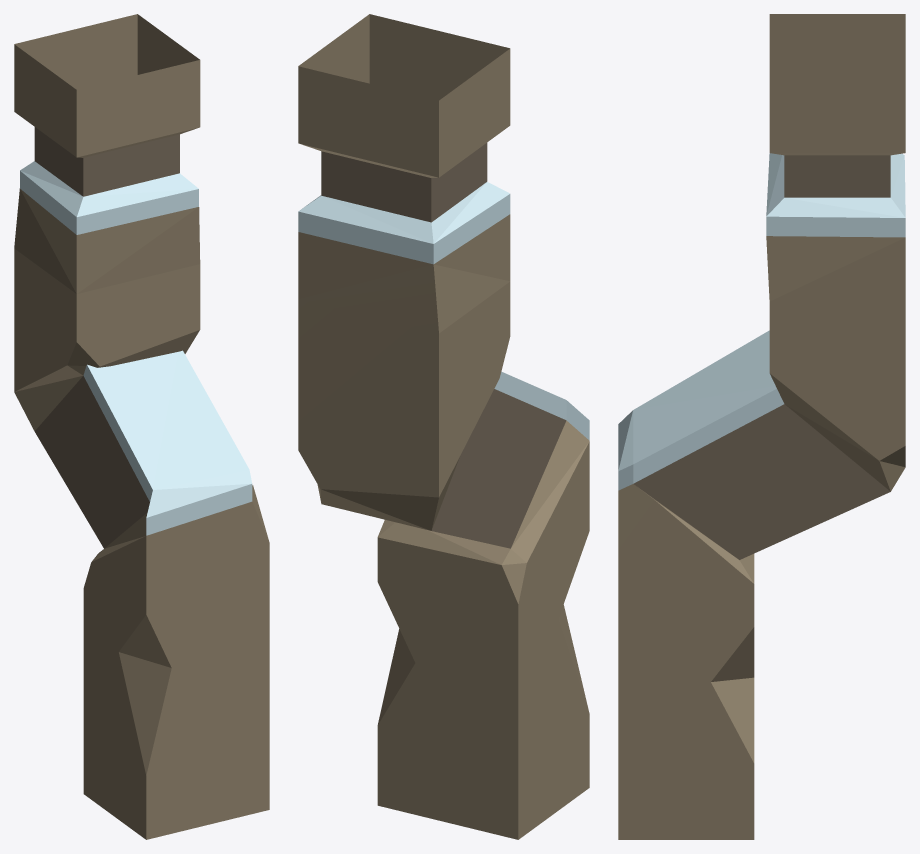
The model's file is SM_Bld_House_Chimney_04_Snow.gltf.
3 renders of one model, left to right at view 1: azimuth 30°, elevation 25°; view 2: azimuth 150°, elevation 25°; view 3: azimuth 270°, elevation 25°, orthographic. The views are drawn at different scales.
Visible parts, largest first — view 1: SM_Bld_House_Chimney_04_Snow; view 2: SM_Bld_House_Chimney_04_Snow; view 3: SM_Bld_House_Chimney_04_Snow.
Part boxes in pixels (<box>): SM_Bld_House_Chimney_04_Snow: <box>14,14,269,839</box>; SM_Bld_House_Chimney_04_Snow: <box>298,14,589,839</box>; SM_Bld_House_Chimney_04_Snow: <box>618,14,905,839</box>.
Size of the model in its own units: 0.851 by 4.6 by 1.58.
1 material, 1 textured.
